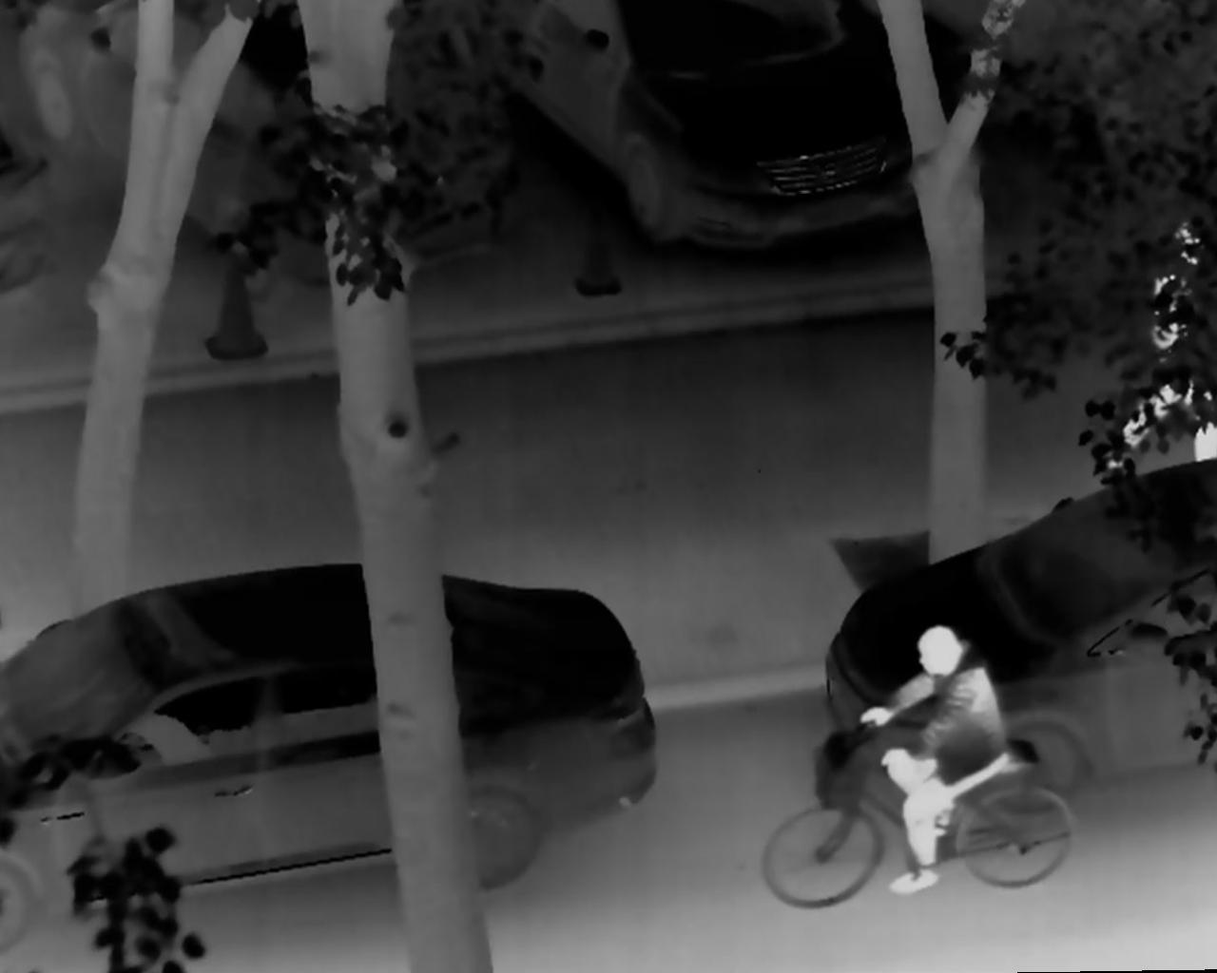person: (856, 623, 1014, 896), (1102, 215, 1217, 490)
